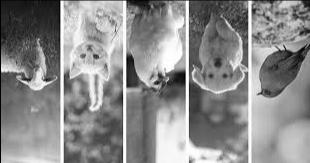Non_Gorille: (7, 0, 301, 150)
